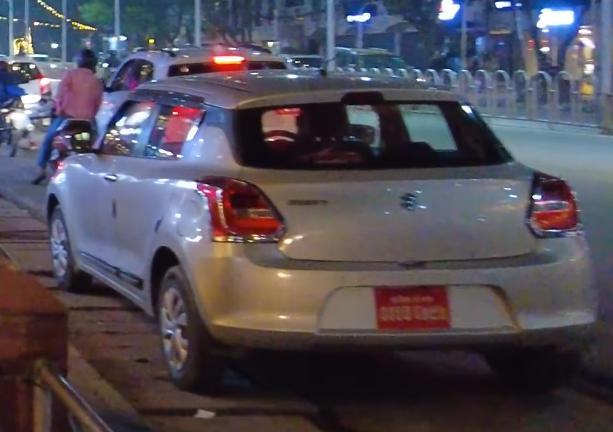car: (40, 63, 613, 388)
